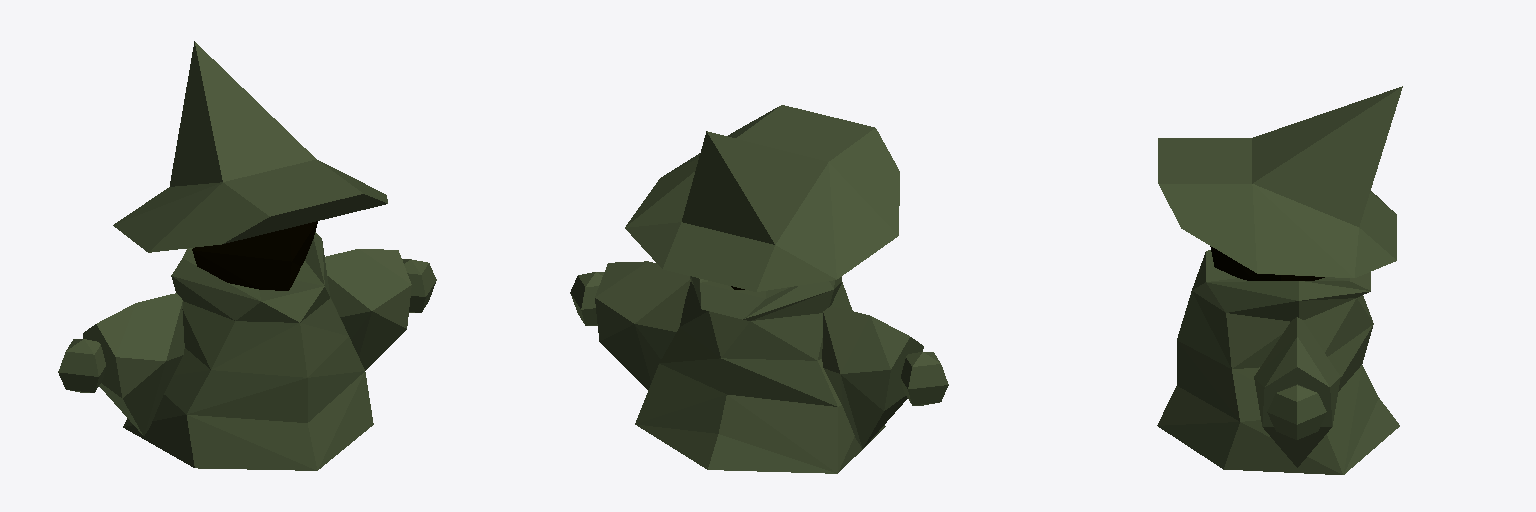
Rendered from BlackMage64.obj.
3 views of the same model, side by side, from view 1: azimuth 30°, elevation 25°; view 2: azimuth 150°, elevation 25°; view 3: azimuth 270°, elevation 25° (orthographic).
Parts seen in each view (by area): view 1: Mesh7 Group7 Model, Mesh6 Group6 Model, Mesh1 Group1 Model, Mesh3 Group3 Model, Mesh5 Group5 Model, Mesh2 Group2 Model, Mesh4 Group4 Model; view 2: Mesh6 Group6 Model, Mesh7 Group7 Model, Mesh1 Group1 Model, Mesh3 Group3 Model, Mesh2 Group2 Model, Mesh4 Group4 Model; view 3: Mesh6 Group6 Model, Mesh7 Group7 Model, Mesh3 Group3 Model, Mesh4 Group4 Model, Mesh5 Group5 Model.
Part boxes in pixels (x1,y1,x2,y2): Mesh7 Group7 Model: (123, 232, 373, 470); Mesh6 Group6 Model: (113, 41, 387, 252); Mesh1 Group1 Model: (83, 293, 184, 435); Mesh3 Group3 Model: (325, 249, 411, 370); Mesh5 Group5 Model: (192, 221, 317, 290); Mesh2 Group2 Model: (58, 339, 105, 392); Mesh4 Group4 Model: (402, 259, 436, 312); Mesh6 Group6 Model: (625, 105, 899, 291); Mesh7 Group7 Model: (635, 276, 885, 473); Mesh1 Group1 Model: (822, 306, 923, 448); Mesh3 Group3 Model: (595, 261, 690, 389); Mesh2 Group2 Model: (901, 352, 948, 405); Mesh4 Group4 Model: (570, 272, 603, 325); Mesh6 Group6 Model: (1158, 86, 1402, 277); Mesh7 Group7 Model: (1157, 250, 1399, 474); Mesh3 Group3 Model: (1254, 317, 1340, 467); Mesh4 Group4 Model: (1267, 384, 1326, 439); Mesh5 Group5 Model: (1210, 246, 1324, 280).
Size of the model in its own units: 270 by 232 by 152.